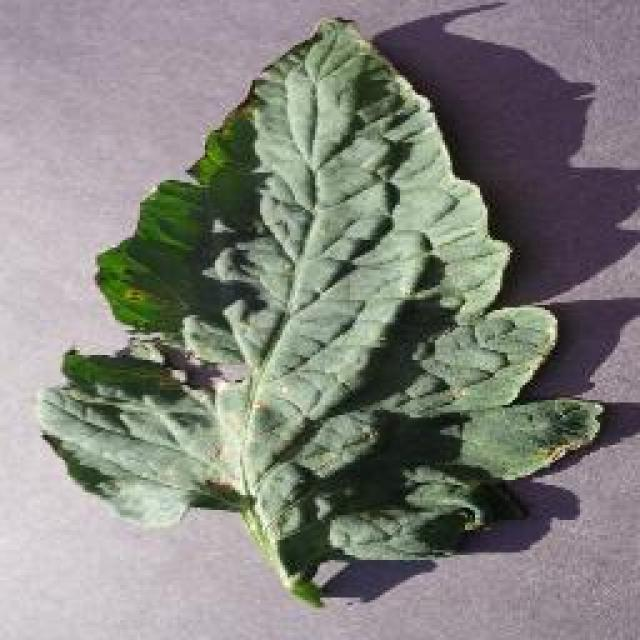Tomato Septoria spot leaf: (37, 15, 605, 565)
